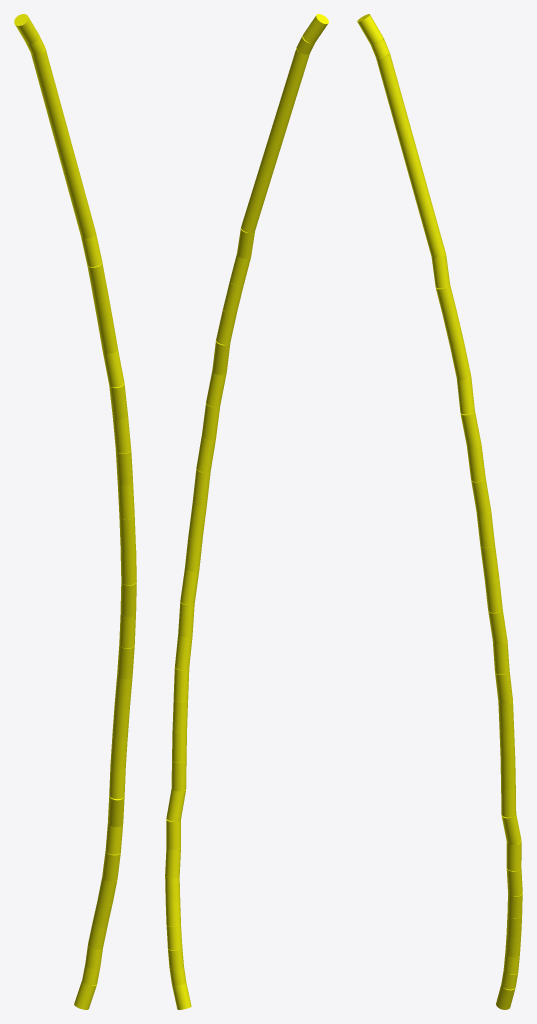
3 renders of one model, left to right at view 1: azimuth 30°, elevation 25°; view 2: azimuth 150°, elevation 25°; view 3: azimuth 330°, elevation 25°, orthographic. The views are drawn at different scales.
Parts seen in each view (by area): view 1: Cylinder(Clone) (×28); view 2: Cylinder(Clone) (×23); view 3: Cylinder(Clone) (×23).
Boxes of the visible parts, left/top/right/bottom form: Cylinder(Clone) (×28): left=14, top=14, right=136, bottom=1009; Cylinder(Clone) (×23): left=165, top=14, right=328, bottom=878; Cylinder(Clone) (×23): left=357, top=14, right=522, bottom=896.
Bounding box in the file's own units: 0.103 × 0.7435 × 0.0654.
